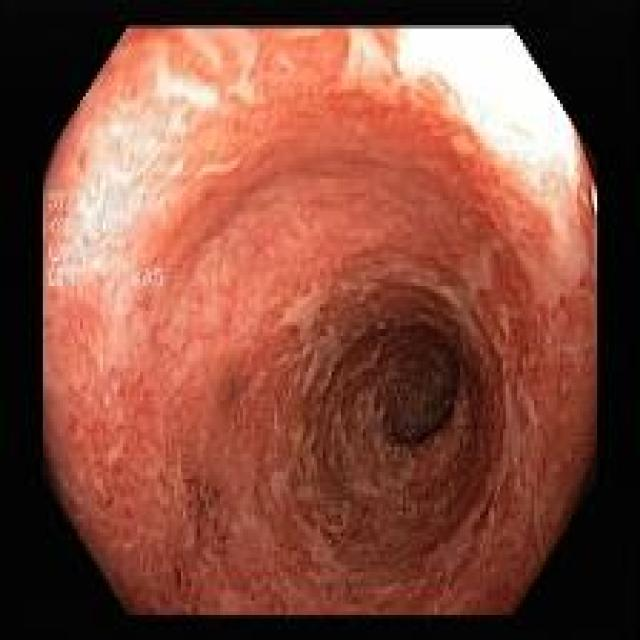ulcerative-colitis: (44, 28, 596, 615)
